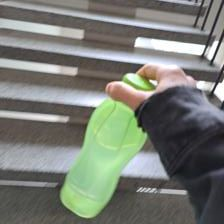bottle: (58, 72, 158, 219)
